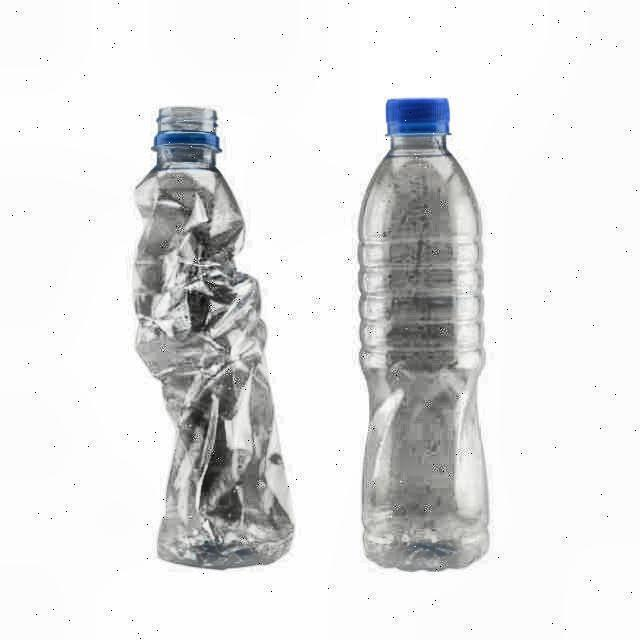plastic: (132, 106, 296, 573), (354, 93, 496, 575)
